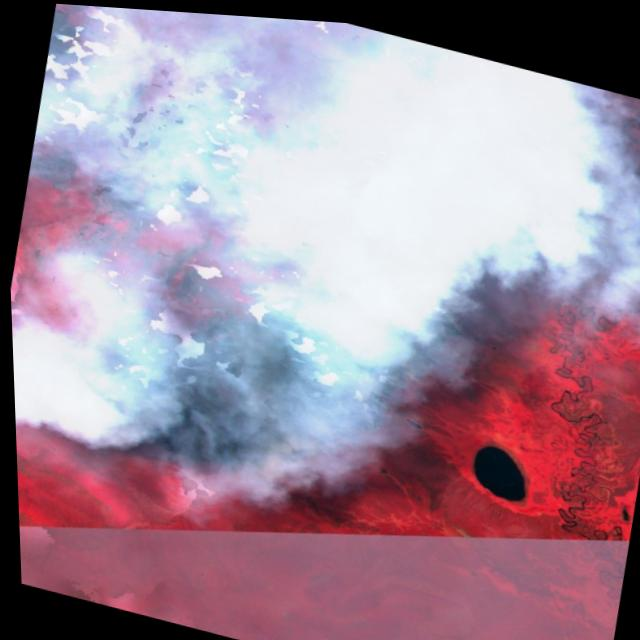fire: (56, 133, 499, 531)
